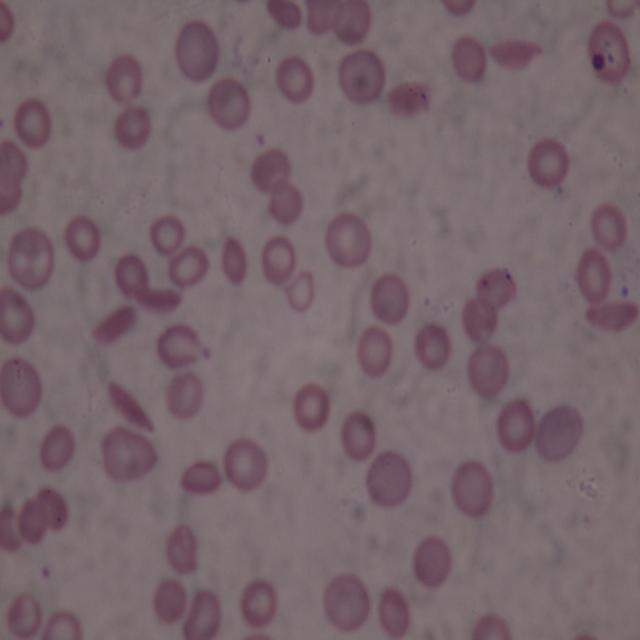Crystal: (584, 302, 640, 338), (90, 303, 134, 344), (180, 457, 222, 498), (386, 82, 436, 112), (262, 0, 300, 35)
Normal: (322, 211, 372, 271), (525, 135, 572, 192), (223, 435, 269, 492), (573, 248, 614, 301), (352, 324, 392, 378), (497, 398, 535, 454), (589, 200, 629, 253), (13, 95, 52, 149), (412, 322, 453, 373), (107, 51, 143, 106), (294, 381, 329, 436), (237, 579, 277, 627), (274, 56, 313, 105), (340, 412, 376, 461), (150, 211, 187, 255), (263, 234, 294, 285), (65, 215, 99, 259), (116, 252, 149, 297), (43, 608, 85, 640)
Others: (98, 427, 160, 483), (586, 19, 632, 87), (323, 572, 371, 634), (537, 404, 584, 464), (174, 22, 219, 84), (8, 228, 54, 287), (157, 319, 212, 367), (1, 358, 42, 421), (367, 452, 412, 506), (452, 458, 491, 516), (468, 344, 509, 399), (0, 287, 36, 349), (210, 78, 251, 131), (413, 534, 452, 587), (370, 275, 410, 323), (112, 103, 150, 153), (475, 266, 517, 310), (39, 423, 75, 474), (378, 587, 413, 639), (167, 371, 203, 419), (185, 591, 221, 639), (165, 525, 198, 575), (250, 150, 289, 192), (170, 244, 209, 286), (451, 38, 486, 83), (336, 1, 372, 44), (463, 299, 498, 343), (266, 186, 304, 225), (153, 580, 186, 624), (6, 593, 39, 637), (303, 0, 343, 35), (36, 488, 69, 530), (0, 140, 28, 189), (287, 270, 318, 314), (221, 234, 247, 286), (20, 499, 45, 543)
Sickle: (106, 381, 157, 432), (487, 38, 548, 72), (135, 284, 185, 316)
Target: (338, 45, 385, 104)
